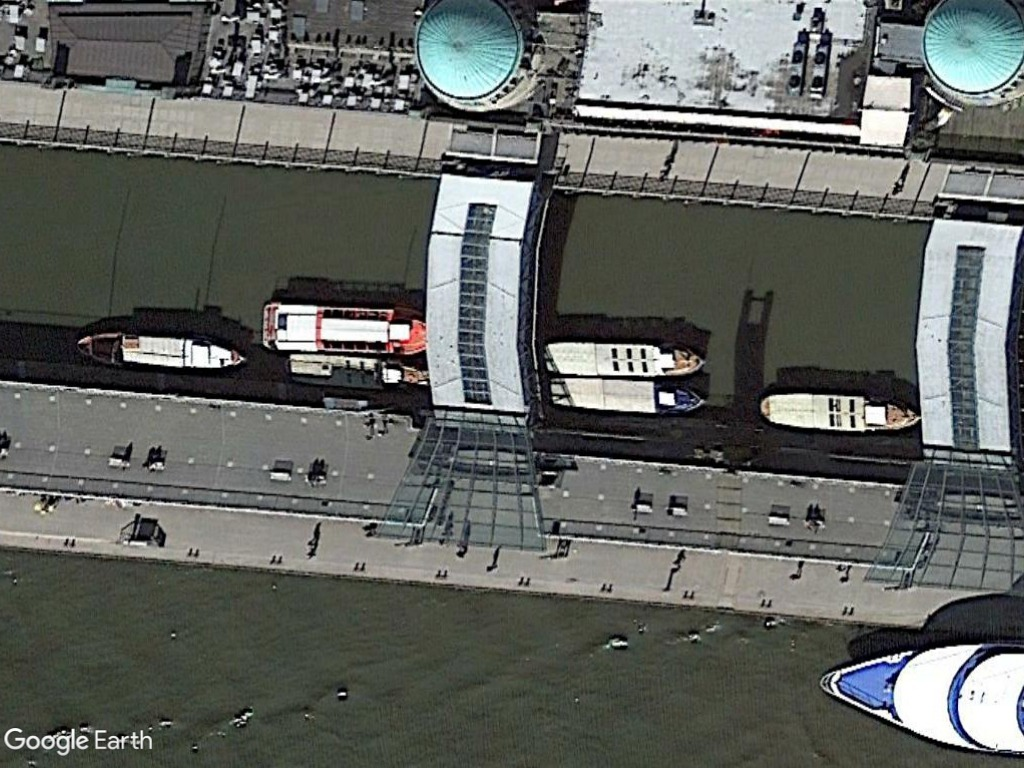boat: (256, 296, 431, 357), (750, 387, 919, 437), (71, 327, 248, 374), (536, 334, 707, 377), (545, 373, 708, 418)
